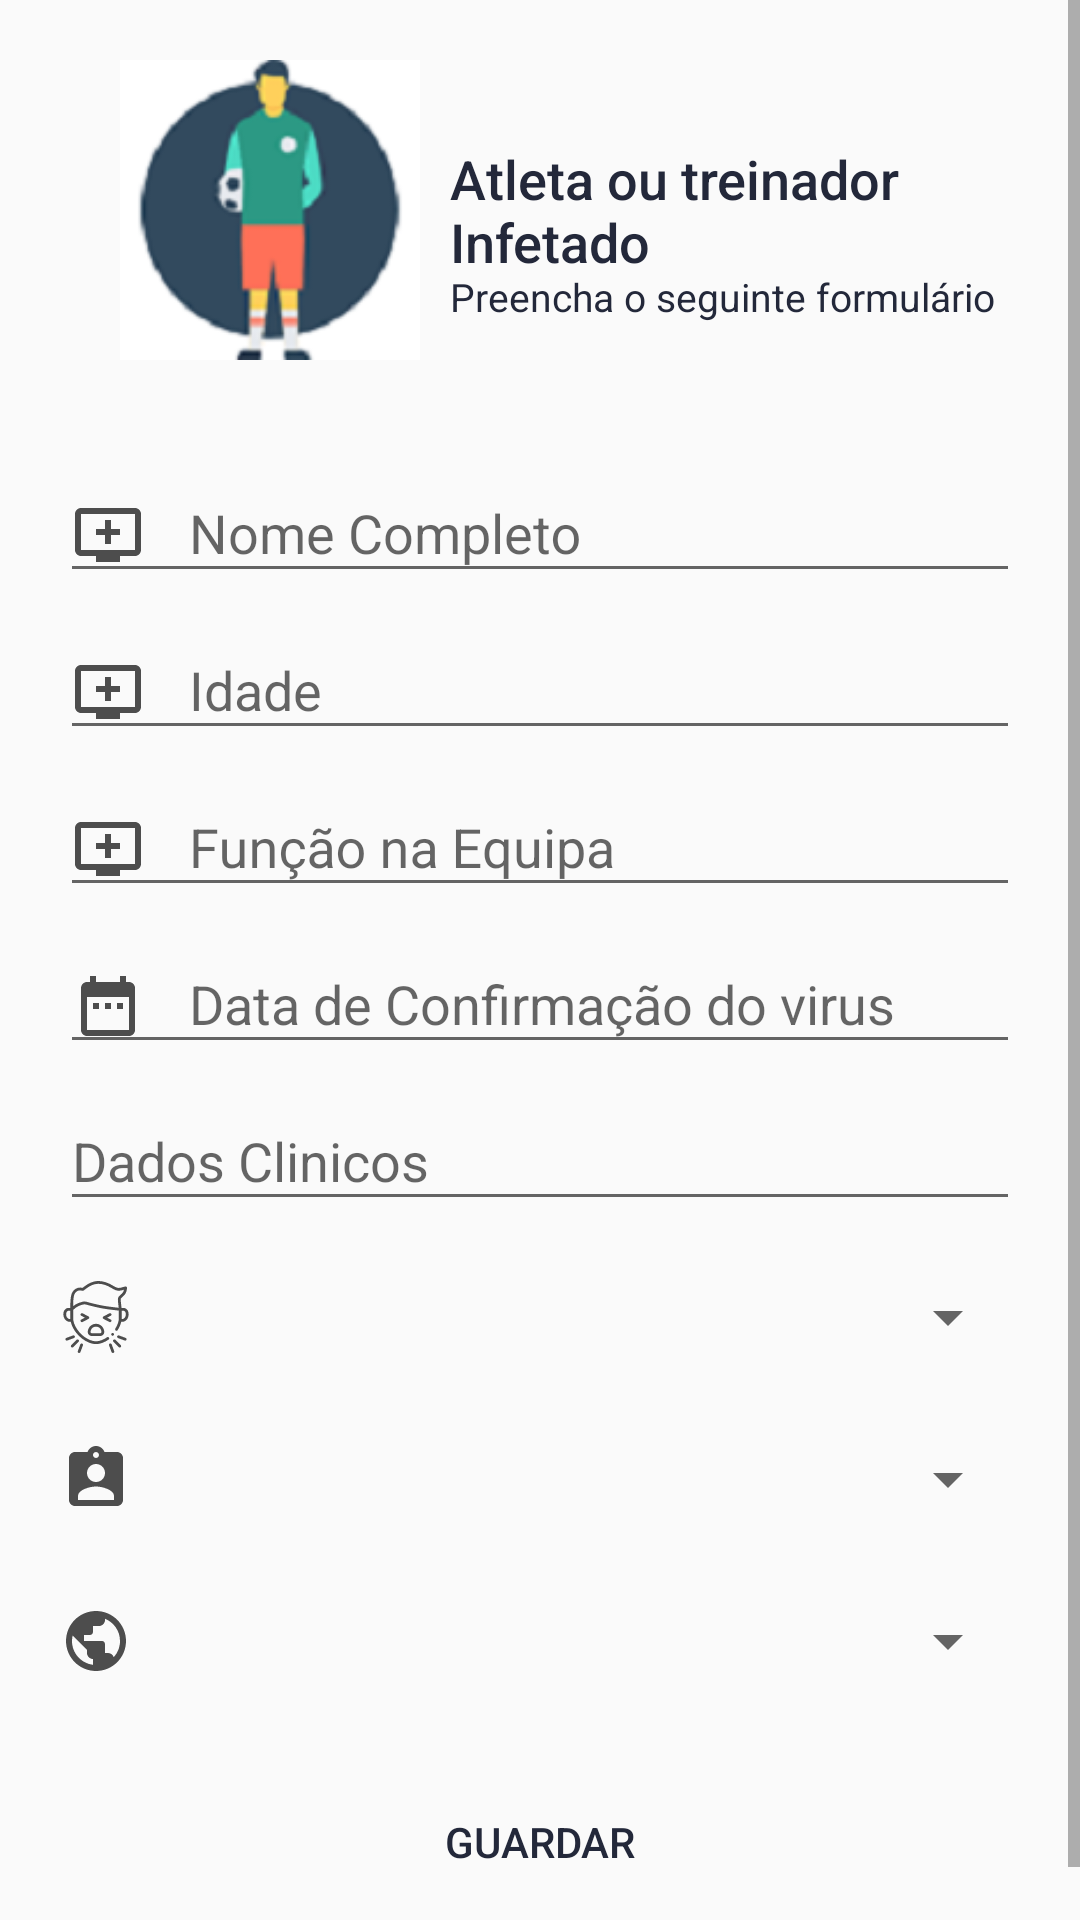

Locate icon controls on the screen. Image size 1080 x 1920, boxes as (x1, y1, x2, y2).
cough: (63, 1281, 129, 1353)
pjogadores: (139, 60, 401, 360)
public: (66, 1611, 126, 1671)
